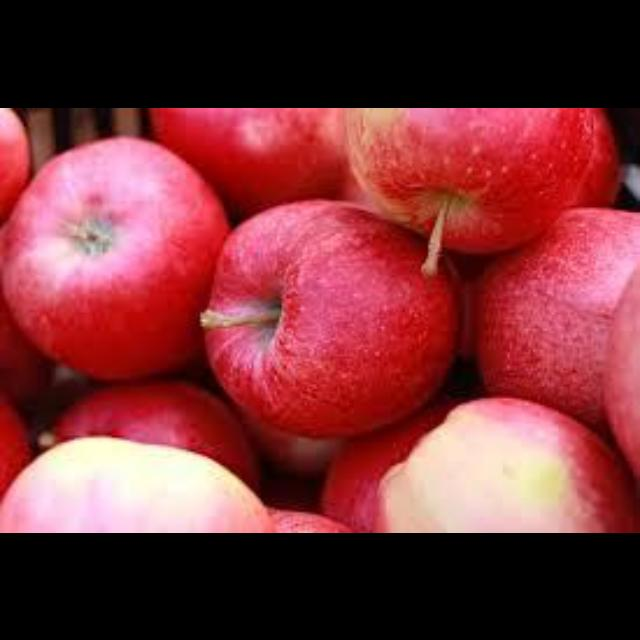apple: (202, 200, 454, 435), (5, 137, 228, 377), (344, 107, 591, 272), (475, 207, 638, 428), (375, 398, 635, 531), (0, 437, 272, 531), (37, 379, 258, 489), (149, 107, 354, 216), (321, 398, 456, 531)
